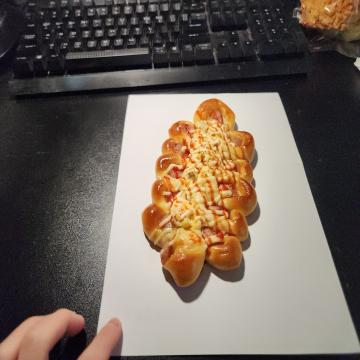pizza_bread: (143, 98, 258, 290)
